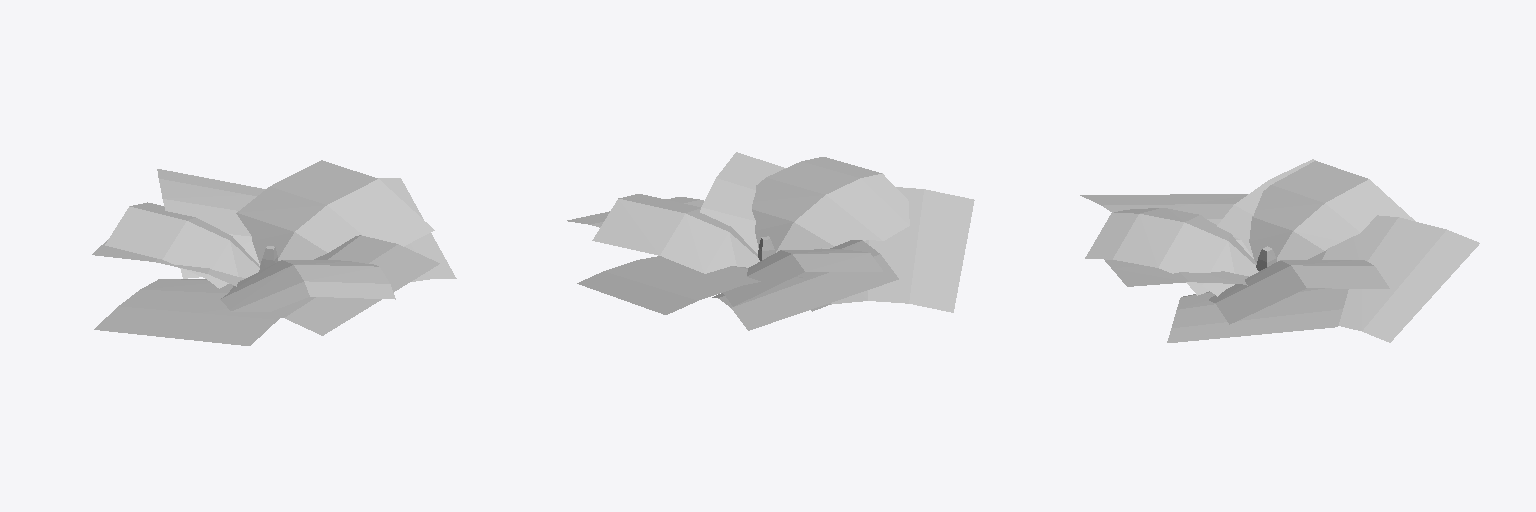
The model's file is Cartoon Flowers_11.obj.
3 renders of one model, left to right at view 1: azimuth 30°, elevation 25°; view 2: azimuth 150°, elevation 25°; view 3: azimuth 270°, elevation 25°, orthographic.
Visible parts, largest first — view 1: Cartoon Flowers_11; view 2: Cartoon Flowers_11; view 3: Cartoon Flowers_11.
Part boxes in pixels (bbox=[...]): Cartoon Flowers_11: bbox=[92, 160, 456, 345]; Cartoon Flowers_11: bbox=[567, 152, 974, 330]; Cartoon Flowers_11: bbox=[1080, 159, 1479, 342].
Bounding box in the file's own units: 8.46 × 1.71 × 8.44.